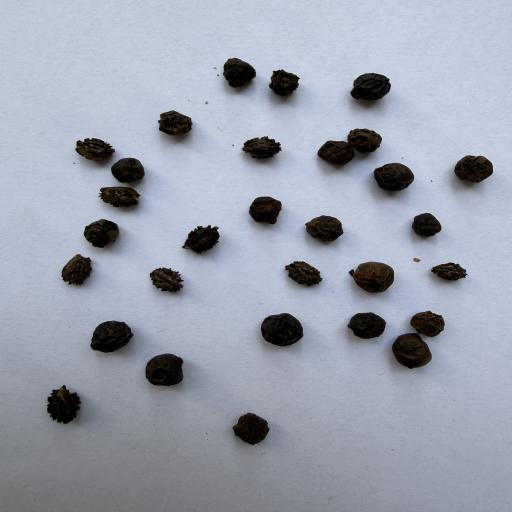Black_pepper: (144, 351, 188, 387), (258, 313, 306, 346), (310, 139, 357, 171), (368, 161, 416, 191), (90, 319, 132, 352), (353, 260, 393, 293), (393, 334, 429, 370), (452, 155, 496, 184), (233, 411, 271, 444), (220, 56, 256, 90), (267, 66, 305, 98), (352, 70, 390, 102), (301, 214, 345, 241), (154, 109, 196, 136), (347, 310, 387, 338), (248, 195, 283, 226), (408, 309, 448, 335), (84, 220, 119, 249), (108, 157, 147, 183), (348, 126, 384, 154), (409, 212, 442, 238)
papaya_seed: (36, 374, 118, 436), (416, 260, 496, 306), (274, 245, 340, 297), (142, 259, 221, 302), (49, 253, 126, 297), (88, 184, 171, 219), (173, 217, 241, 255), (52, 133, 140, 159), (237, 132, 294, 165)
